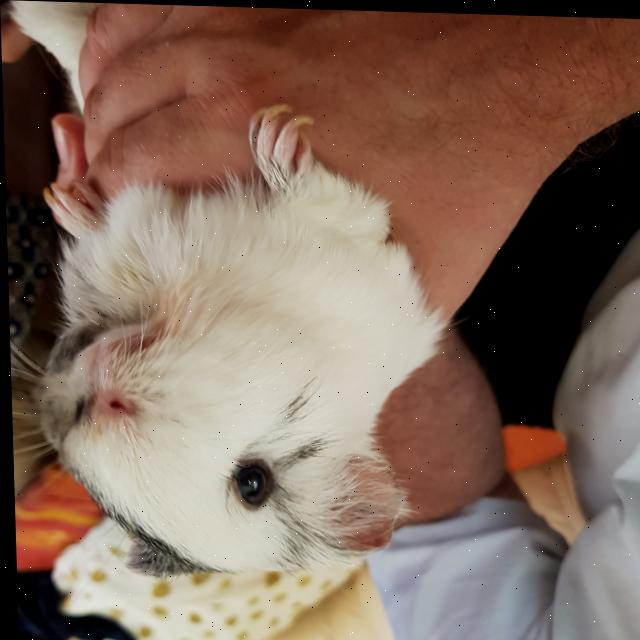guinea pig: (21, 84, 457, 591)
